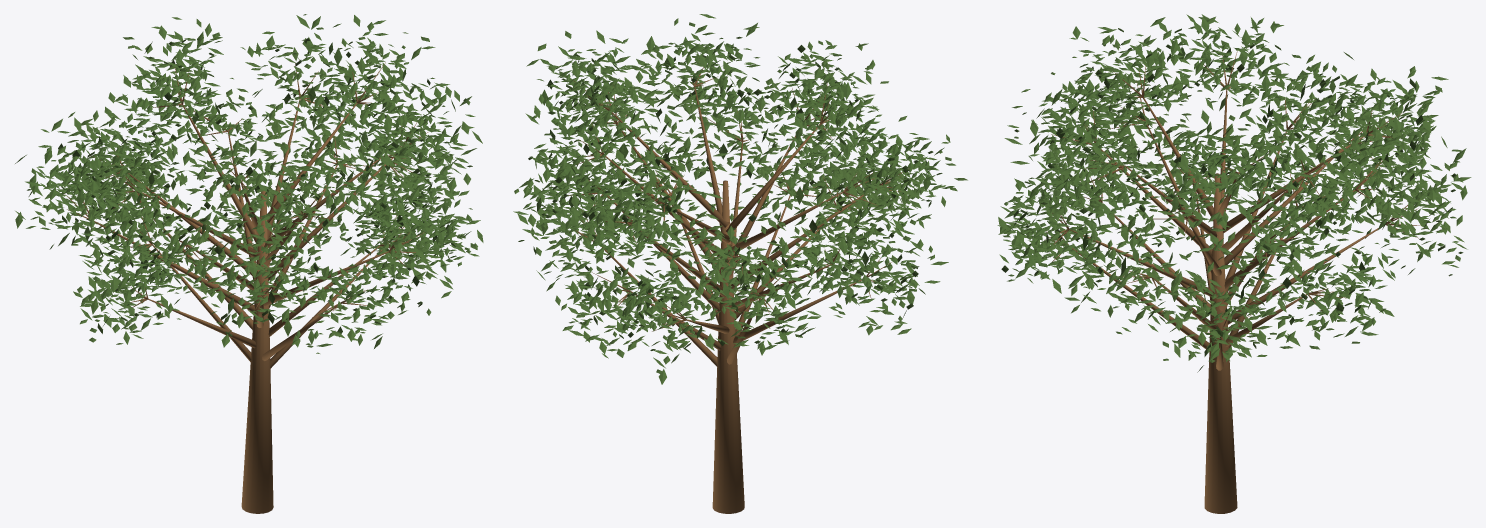
File: SM_Tree0.fbx
3 renders of one model, left to right at view 1: azimuth 30°, elevation 25°; view 2: azimuth 150°, elevation 25°; view 3: azimuth 270°, elevation 25°, orthographic. The views are drawn at different scales.
Visible parts, largest first — view 1: SM_Tree0; view 2: SM_Tree0; view 3: SM_Tree0.
Boxes of the visible parts, x1,y1,x2,y2 form: SM_Tree0: (15, 14, 483, 513); SM_Tree0: (513, 14, 967, 513); SM_Tree0: (997, 14, 1471, 513).
Bounding box in the file's own units: 639 × 653 × 681.
